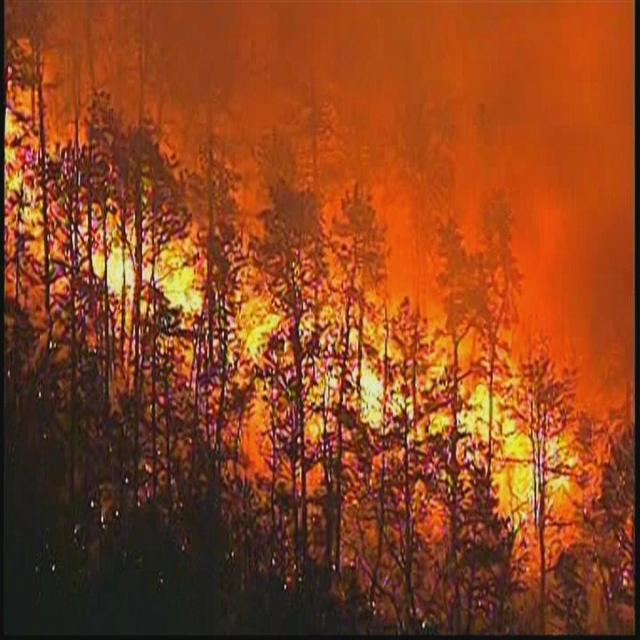Fire: (6, 92, 215, 341), (239, 267, 418, 424), (447, 358, 593, 533)
Smoke: (27, 0, 640, 322)
